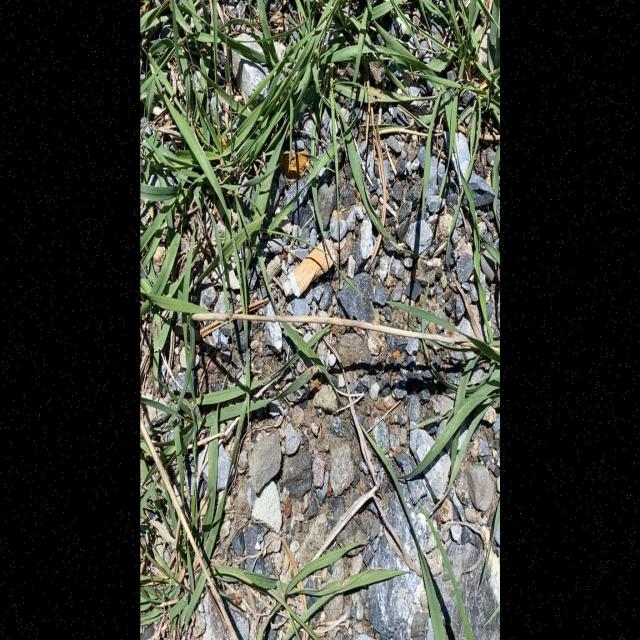other waste: (287, 238, 336, 298)
